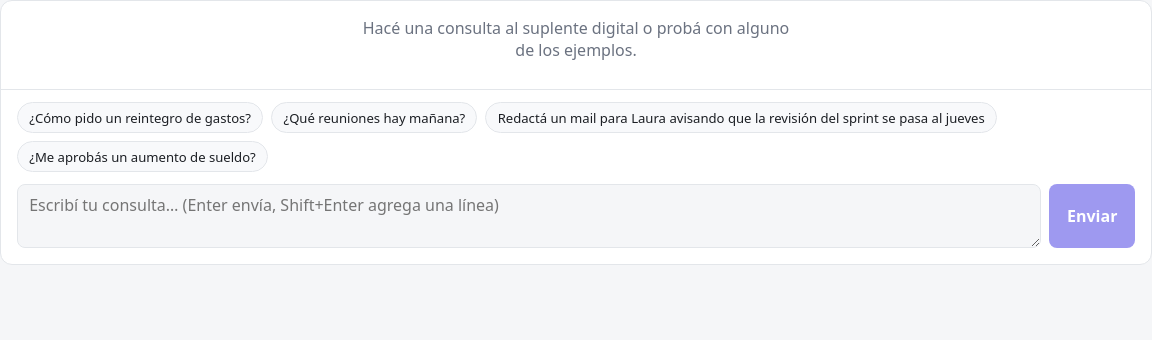
it: Chat › FRONT-CHAT-09 shows an error message when the request fails
Type "Hola" into the text box labelled "consulta" at (529, 216), box [17,184,1041,248]
Then press Enter
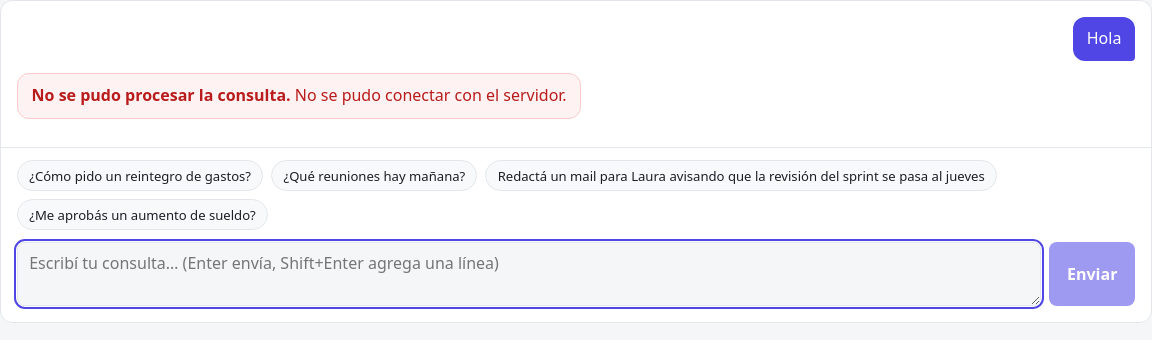
Check: the text box labelled "consulta" is enabled, box [17,242,1041,306]
Check: the text "No se pudo procesar la consulta." is shown, box [32,84,291,106]
Check: the message shows "No se pudo conectar con el servidor.", box [295,84,567,106]
